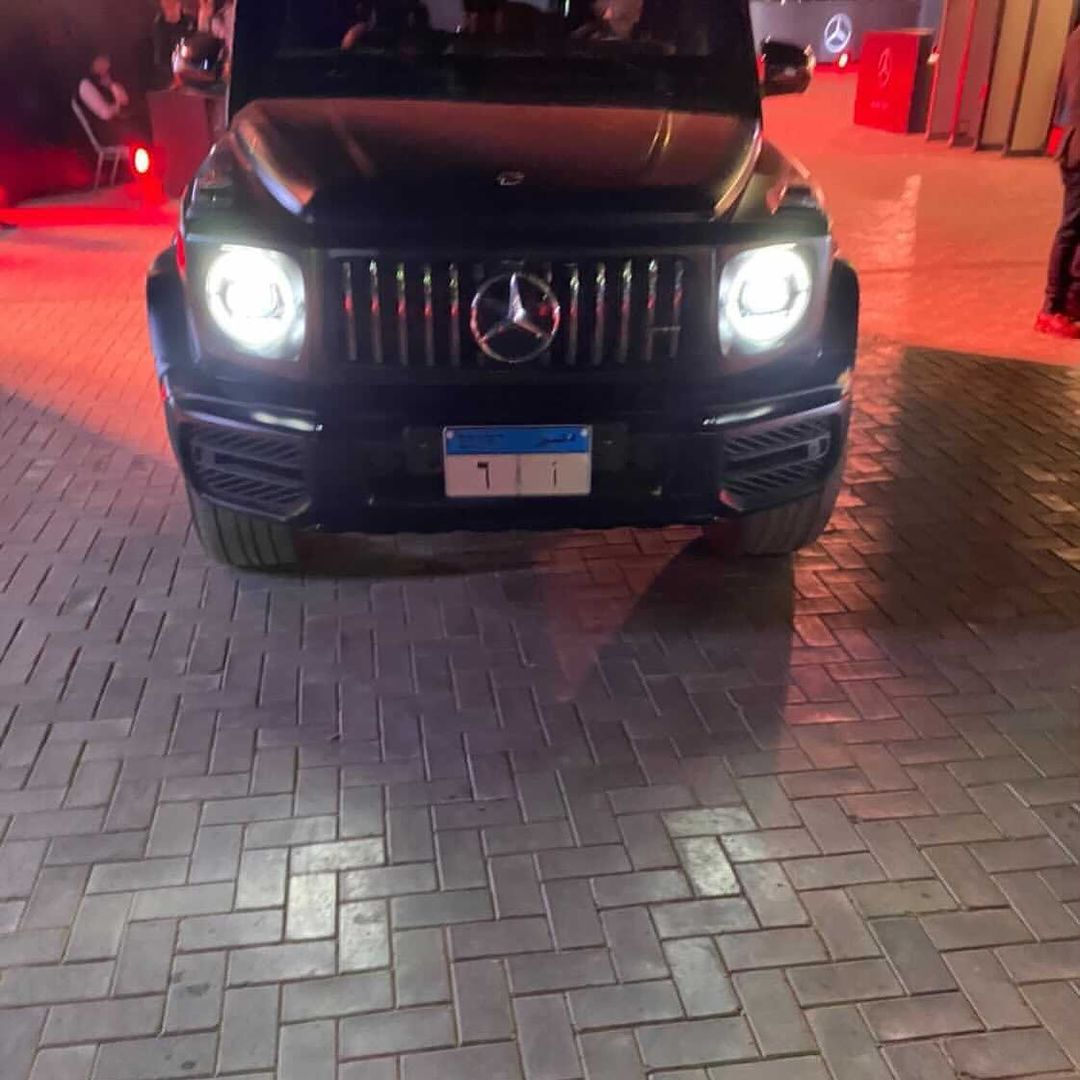carpl: (439, 423, 597, 505)
